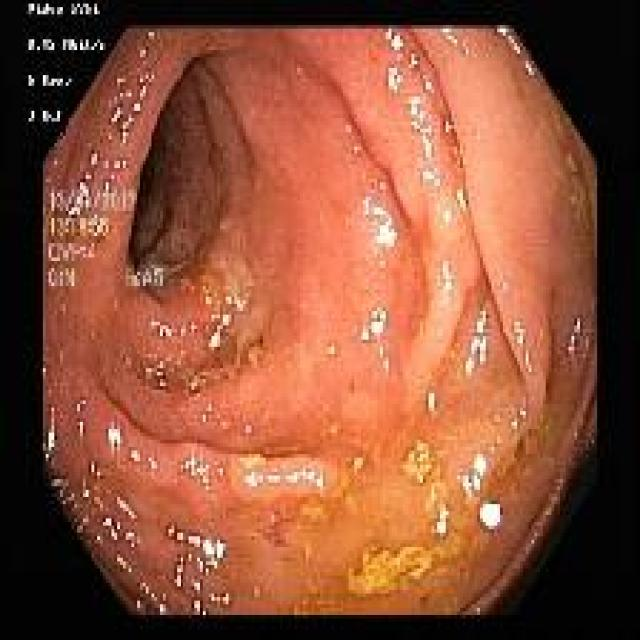ulcerative-colitis: (44, 28, 596, 614)
